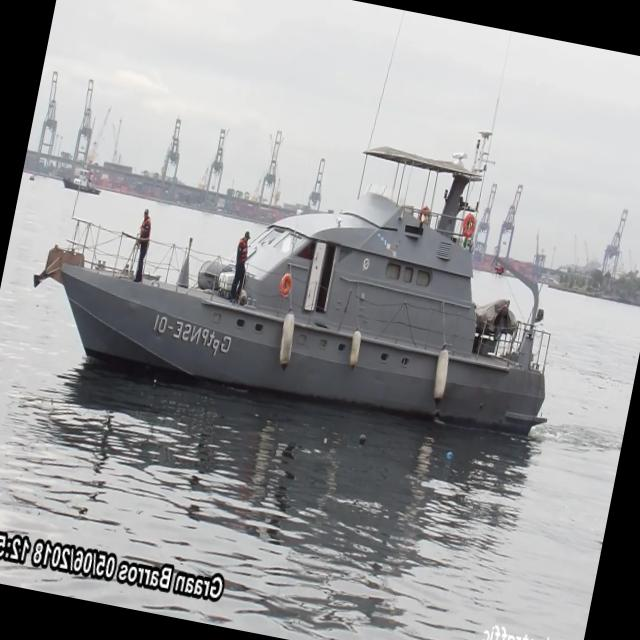Military: (33, 147, 550, 434)
Tug: (63, 170, 100, 195)
